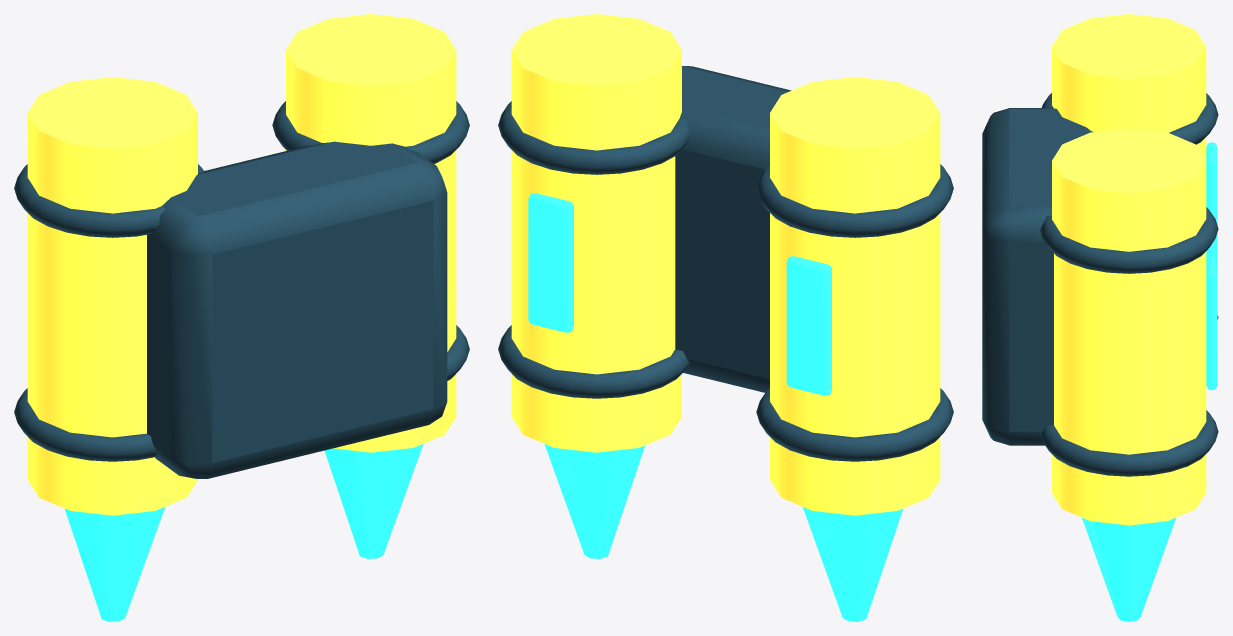
The model's file is twin_thrusters.glb.
3 views of the same model, side by side, from view 1: azimuth 30°, elevation 25°; view 2: azimuth 150°, elevation 25°; view 3: azimuth 270°, elevation 25° (orthographic). The views are drawn at different scales.
Visible parts, largest first — view 1: Backpack, ThrusterTank, FuelGauge; view 2: ThrusterTank, Backpack, FuelGauge; view 3: ThrusterTank, Backpack, FuelGauge.
Part boxes in pixels (<box>): Backpack: <box>14,101,469,478</box>; ThrusterTank: <box>27,14,456,515</box>; FuelGauge: <box>65,444,423,621</box>; ThrusterTank: <box>511,14,940,515</box>; Backpack: <box>498,66,953,461</box>; FuelGauge: <box>528,193,902,621</box>; ThrusterTank: <box>1052,14,1206,525</box>; Backpack: <box>982,93,1218,476</box>; FuelGauge: <box>1082,142,1217,621</box>.
Size of the model in its own units: 1.16 by 1.3 by 0.612.
